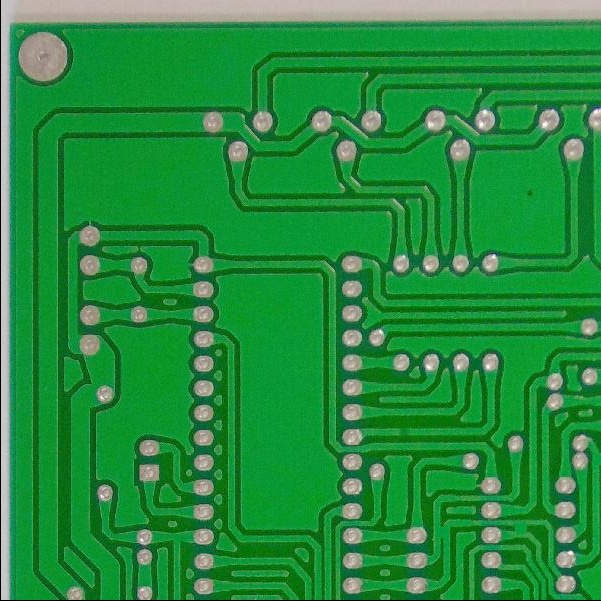short: (428, 522, 453, 548), (510, 519, 531, 543)
